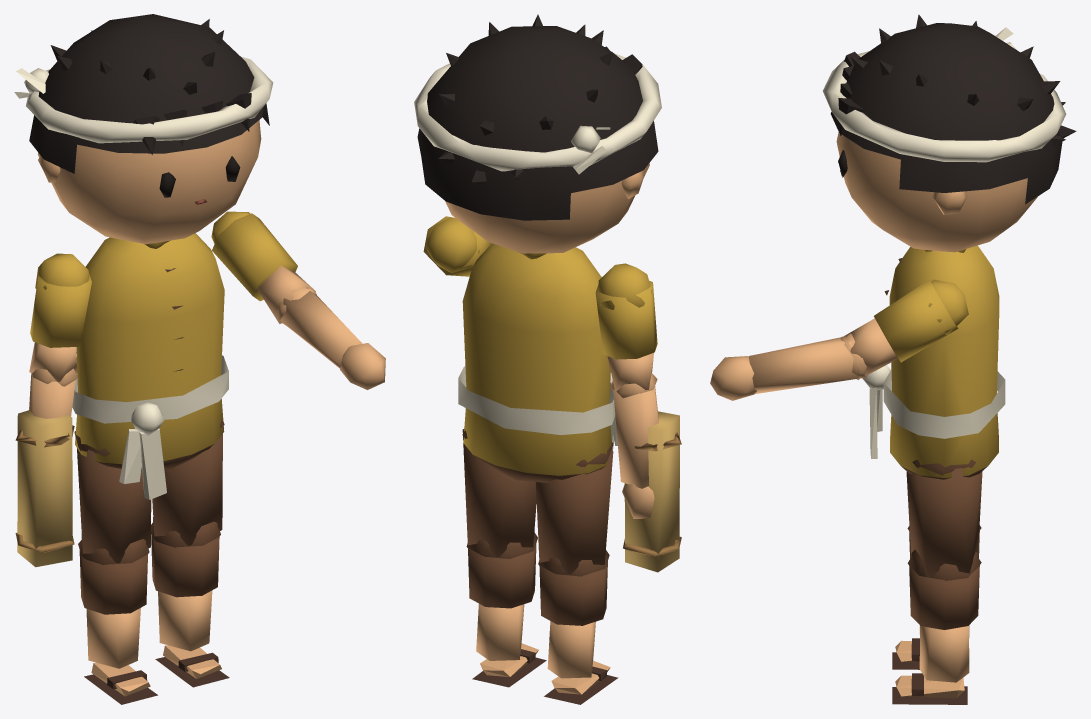
File: west_ladder_man.glb
3 renders of one model, left to right at view 1: azimuth 30°, elevation 25°; view 2: azimuth 150°, elevation 25°; view 3: azimuth 270°, elevation 25°, orthographic.
Parts seen in each view (by area): view 1: head, body, prop_bamboo_tube, shin_L, shin_R, leg_R, arm_R, arm_L, leg_L, forearm_L, forearm_R; view 2: head, body, shin_L, shin_R, leg_R, arm_R, leg_L, prop_bamboo_tube, forearm_R, arm_L; view 3: head, body, shin_L, leg_L, arm_L, forearm_L, shin_R.
Boxes of the visible parts, x1,y1,x2,y2 form: head: (14, 14, 273, 244); body: (72, 233, 228, 499); prop_bamboo_tube: (15, 410, 74, 567); shin_L: (151, 517, 229, 687); shin_R: (79, 535, 157, 704); leg_R: (74, 431, 151, 565); arm_R: (29, 253, 91, 386); arm_L: (211, 211, 316, 323); leg_L: (151, 419, 224, 547); forearm_L: (278, 286, 385, 389); forearm_R: (29, 369, 75, 418); head: (414, 14, 661, 253); body: (458, 243, 617, 482); shin_L: (468, 531, 546, 687); shin_R: (539, 551, 618, 704); leg_R: (535, 441, 613, 576); arm_R: (595, 263, 657, 398); leg_L: (462, 429, 537, 558); prop_bamboo_tube: (623, 411, 681, 572); forearm_R: (613, 381, 658, 518); arm_L: (423, 216, 491, 276); head: (823, 14, 1076, 252); body: (862, 245, 1005, 479); shin_L: (892, 549, 979, 704); leg_L: (906, 459, 982, 580); arm_L: (840, 279, 968, 378); forearm_L: (710, 333, 864, 400); shin_R: (892, 530, 979, 669).
Bounding box in the file's own units: 0.6355 × 1.47 × 0.7583.
